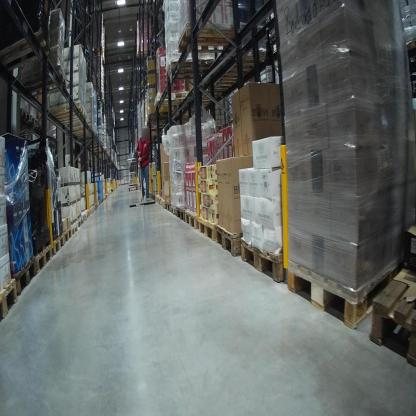pallet: (287, 243, 412, 329), (367, 259, 415, 371), (241, 224, 310, 287), (4, 26, 56, 77), (174, 23, 242, 58), (19, 57, 70, 100), (215, 219, 258, 258), (221, 45, 269, 75), (165, 58, 216, 84), (11, 257, 36, 300), (0, 278, 20, 325), (34, 239, 54, 277), (49, 101, 83, 123), (153, 91, 192, 110), (55, 110, 87, 127), (199, 215, 218, 239), (184, 210, 203, 231), (52, 232, 66, 256), (176, 204, 192, 222), (19, 108, 31, 126), (62, 224, 72, 245), (89, 46, 104, 57), (72, 220, 79, 236), (31, 116, 40, 128), (165, 199, 172, 212), (76, 217, 83, 229), (171, 202, 177, 215), (161, 196, 164, 208)
